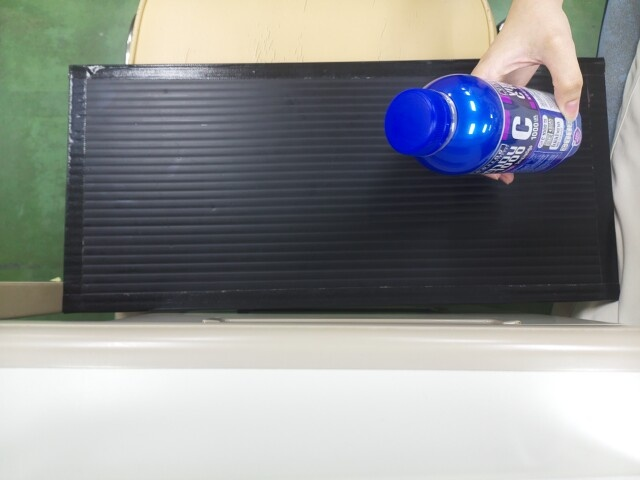plastic_bottle: (389, 76, 582, 171)
